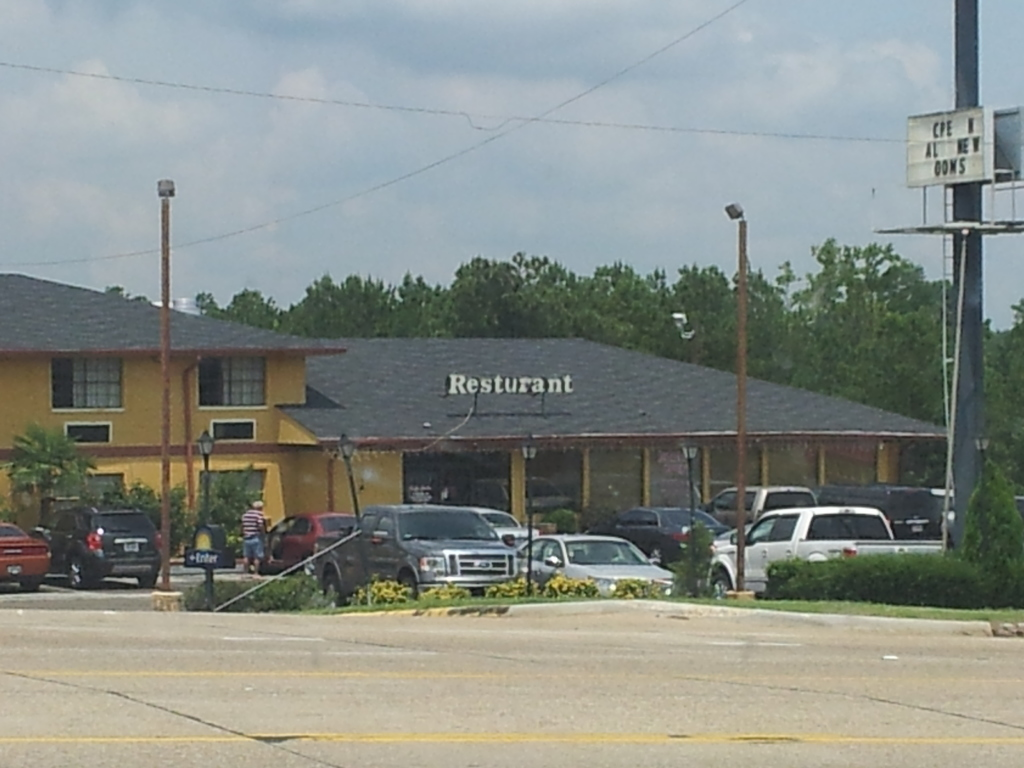mobil: (329, 511, 519, 612), (39, 499, 171, 602)
